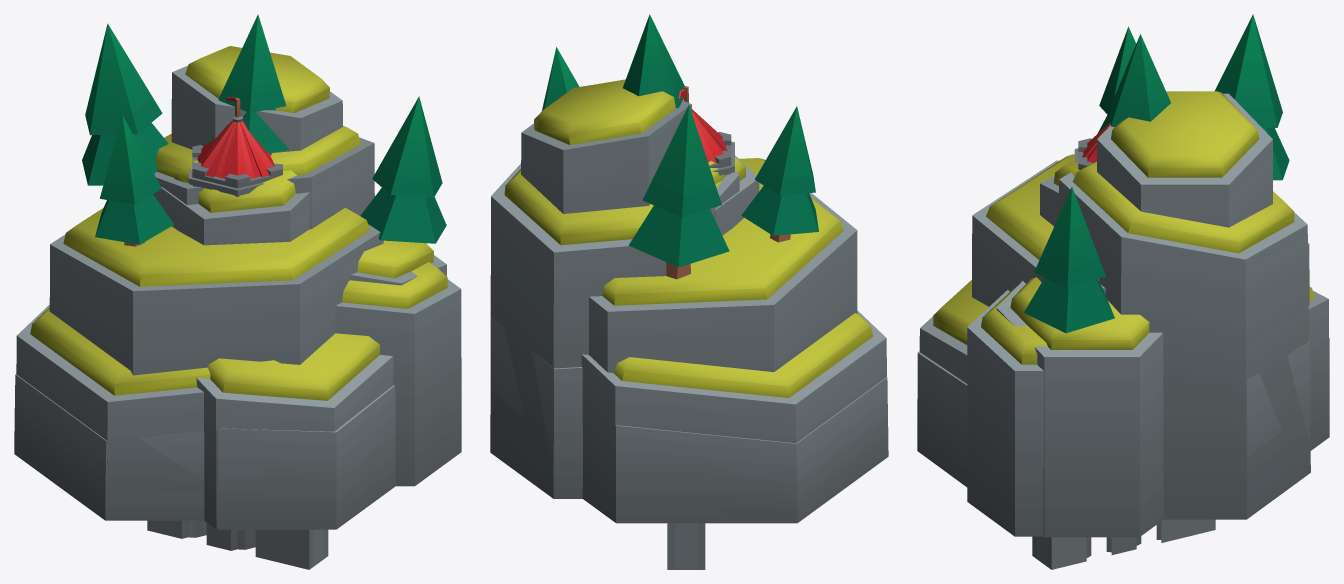
The model's file is medieval-kit.glb.
3 views of the same model, side by side, from view 1: azimuth 30°, elevation 25°; view 2: azimuth 150°, elevation 25°; view 3: azimuth 270°, elevation 25° (orthographic).
Visible parts, largest first — view 1: mountain_A_grass_trees, mountain_B_grass, building_castle_red, building_bridge_A; view 2: mountain_A_grass_trees, mountain_B_grass, building_bridge_A, building_castle_red; view 3: mountain_B_grass, mountain_A_grass_trees, building_bridge_A, building_castle_red.
Part boxes in pixels (x1,y1,x2,y2): mountain_A_grass_trees: (14,14,461,529); mountain_B_grass: (16,46,446,529); building_castle_red: (189,97,282,196); building_bridge_A: (147,520,328,569); mountain_A_grass_trees: (491,14,888,523); mountain_B_grass: (490,79,886,522); building_bridge_A: (667,523,705,569); building_castle_red: (678,86,734,175); mountain_B_grass: (917,91,1328,537); mountain_A_grass_trees: (919,14,1329,536); building_bridge_A: (1032,519,1215,569); building_castle_red: (1074,122,1110,169).
Size of the model in its own units: 26.53 by 37.62 by 26.87.
Materials: 3 (3 with a texture image).
